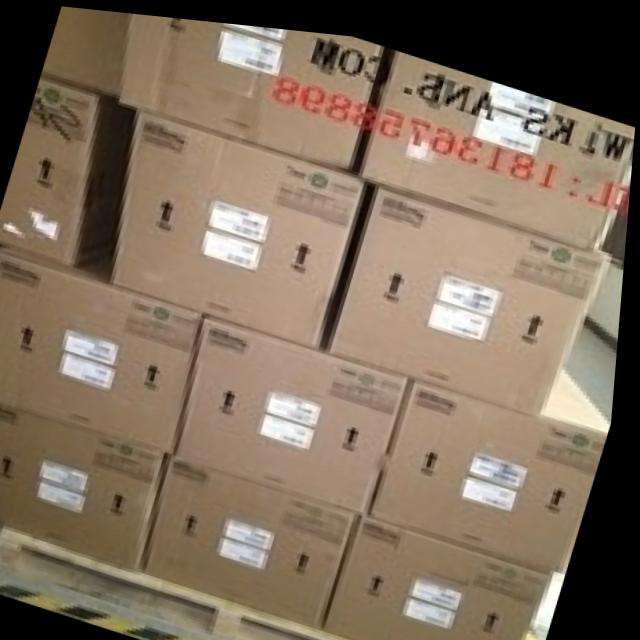box: (334, 177, 614, 401), (114, 104, 366, 340), (364, 41, 636, 237), (374, 349, 615, 564), (178, 309, 413, 508), (0, 248, 207, 454), (119, 10, 384, 161), (150, 455, 366, 622), (333, 507, 561, 640), (0, 399, 175, 565), (0, 75, 104, 265), (42, 5, 128, 92)
